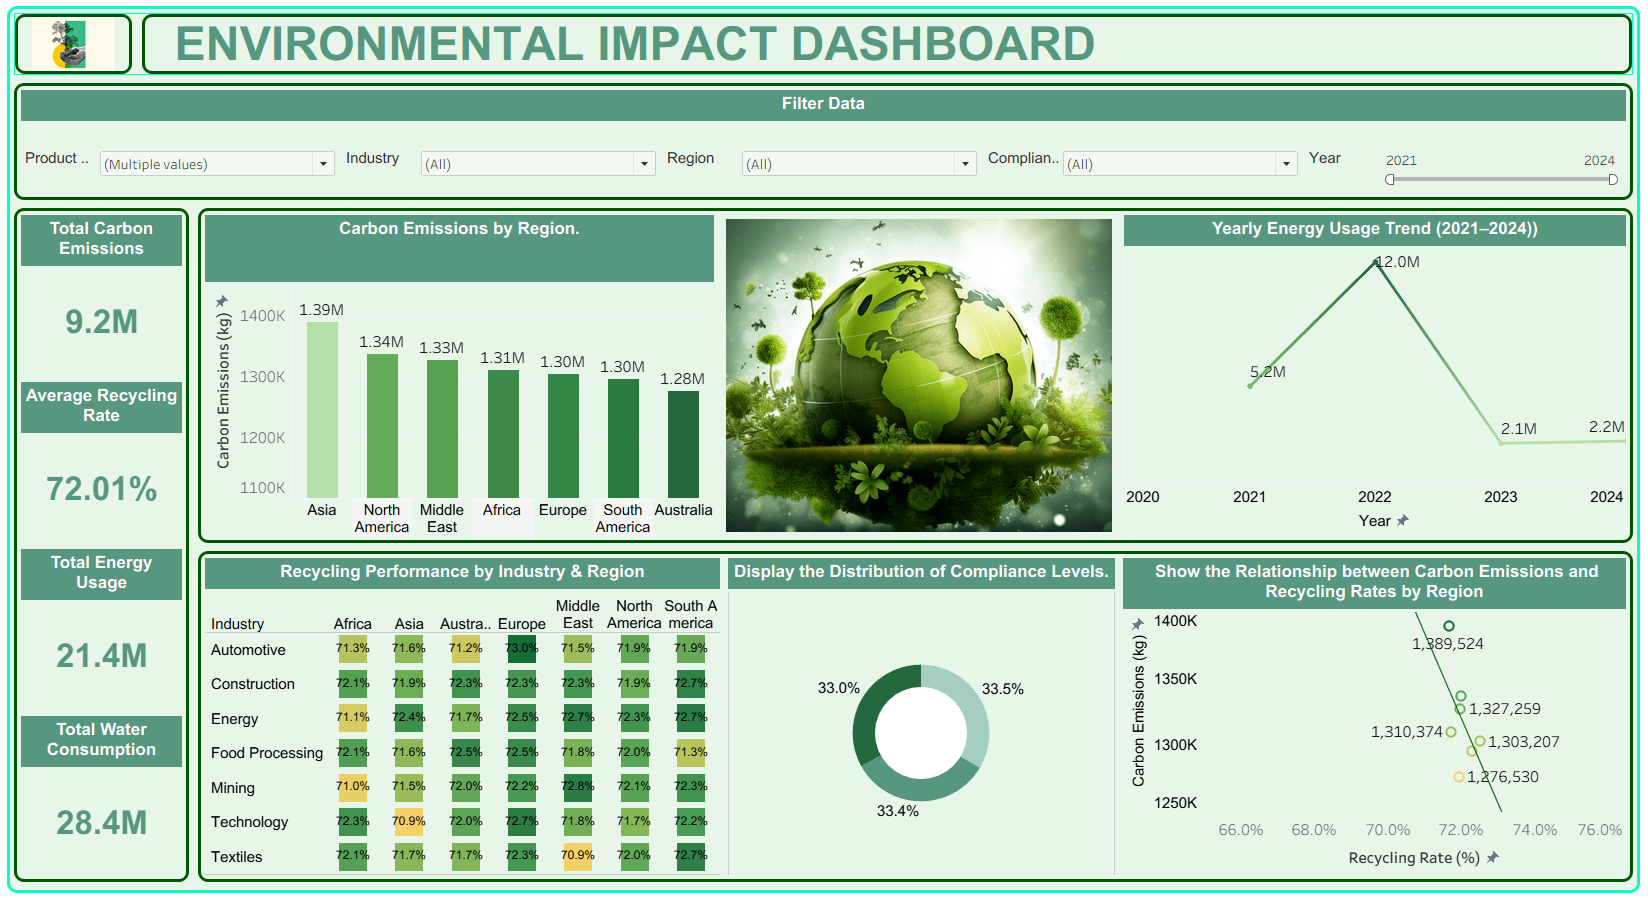

Layout of this report page (visuals, bound fields, positions):
{"tool":"tableau","page":{"name":"Environmental_Impact_Dashboard","canvas":[1000,1000],"units":"permille","ordinal":1},"visuals":[{"type":"image","param":"Image/Logo.jpg","box":[12.1,21.9,73.6,65.9]},{"type":"text","box":[85.7,21.9,902.2,65.9]},{"type":"worksheet","title":"Filters","mark":"Automatic","box":[13.3,101,973.5,59.3]},{"type":"filter","title":"Filters","param":"[federated.0i63ahl1h0ejj4104atk61rsj3s2].[none:Product Type:nk]","box":[15.7,164.7,193.7,53.8]},{"type":"filter","title":"Filters","param":"[federated.0i63ahl1h0ejj4104atk61rsj3s2].[none:Industry:nk]","box":[209.4,164.7,193.7,53.8]},{"type":"filter","title":"Filters","param":"[federated.0i63ahl1h0ejj4104atk61rsj3s2].[none:Region:nk]","box":[403.1,164.7,193.7,53.8]},{"type":"filter","title":"Filters","param":"[federated.0i63ahl1h0ejj4104atk61rsj3s2].[none:Compliance Level:nk]","box":[596.9,164.7,193.7,53.8]},{"type":"filter","title":"Filters","param":"[federated.0i63ahl1h0ejj4104atk61rsj3s2].[none:Year:qk]","box":[790.6,164.7,193.7,53.8]},{"type":"worksheet","title":"KNIs_Total Carbon Emissions","mark":"Automatic","box":[13.3,238.2,102,183.3]},{"type":"worksheet","title":"BarChart_Carbon&Region","mark":"Automatic","rows":["Carbon Emissions (kg)"],"cols":["Region"],"box":[124.3,238.2,312,361.2]},{"type":"worksheet","title":"LineChart_EnergyUsage&Year","mark":"Automatic","rows":["Energy Usage (kWh)"],"cols":["Year"],"box":[678.9,238.2,307.8,361.2]},{"type":"image","param":"Image/img_5.png","box":[438.7,242.6,237.8,352.4]},{"type":"worksheet","title":"KNIs_Average Recycling Rate","mark":"Automatic","box":[13.3,421.5,102,183.3]},{"type":"worksheet","title":"KNIs_Total Energy Usage","mark":"Automatic","box":[13.3,604.8,102,183.3]},{"type":"worksheet","title":"Heatmap_recycling_regi&industry.","mark":"Automatic","rows":["Industry"],"cols":["Region"],"box":[124.3,614.7,315.6,356.8]},{"type":"worksheet","title":"PieChart_distribution-of-compliance_levels","mark":"Pie","rows":["Calculation_2986613889466368","Calculation_2986613889466368"],"box":[439.9,614.7,238.4,356.8]},{"type":"worksheet","title":"ScatterPlot_ relationship b/w carbon emissions & recycling rates","mark":"Automatic","rows":["Carbon Emissions (kg)"],"cols":["Calculation_3355227235909632"],"box":[678.3,614.7,308.4,356.8]},{"type":"worksheet","title":"KNIs_Total Water Consumption","mark":"Automatic","box":[13.3,788.1,102,183.3]}]}

Visuals, with their boxes on the dashboard's canvas, which has no fixed pixel size, in thousandths of its width and height (x1, y1, x2, y2). These are canvas units, not pixel positions in the 1648x898 screenshot, which may show the page scaled, cropped or inside an application window:
image: <bbox>12, 22, 86, 88</bbox>
text: <bbox>86, 22, 988, 88</bbox>
"Filters" worksheet: <bbox>13, 101, 987, 160</bbox>
"Filters" filter: <bbox>16, 165, 209, 218</bbox>
"Filters" filter: <bbox>209, 165, 403, 218</bbox>
"Filters" filter: <bbox>403, 165, 597, 218</bbox>
"Filters" filter: <bbox>597, 165, 791, 218</bbox>
"Filters" filter: <bbox>791, 165, 984, 218</bbox>
"KNIs_Total Carbon Emissions" worksheet: <bbox>13, 238, 115, 422</bbox>
"BarChart_Carbon&Region" worksheet: <bbox>124, 238, 436, 599</bbox>
"LineChart_EnergyUsage&Year" worksheet: <bbox>679, 238, 987, 599</bbox>
image: <bbox>439, 243, 676, 595</bbox>
"KNIs_Average Recycling Rate" worksheet: <bbox>13, 422, 115, 605</bbox>
"KNIs_Total Energy Usage" worksheet: <bbox>13, 605, 115, 788</bbox>
"Heatmap_recycling_regi&industry." worksheet: <bbox>124, 615, 440, 972</bbox>
"PieChart_distribution-of-compliance_levels" worksheet (Pie marks): <bbox>440, 615, 678, 972</bbox>
"ScatterPlot_ relationship b/w carbon emissions & recycling rates" worksheet: <bbox>678, 615, 987, 972</bbox>
"KNIs_Total Water Consumption" worksheet: <bbox>13, 788, 115, 971</bbox>
